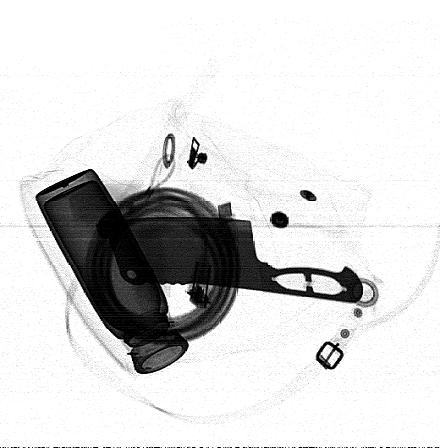Knife: (102, 216, 364, 305)
